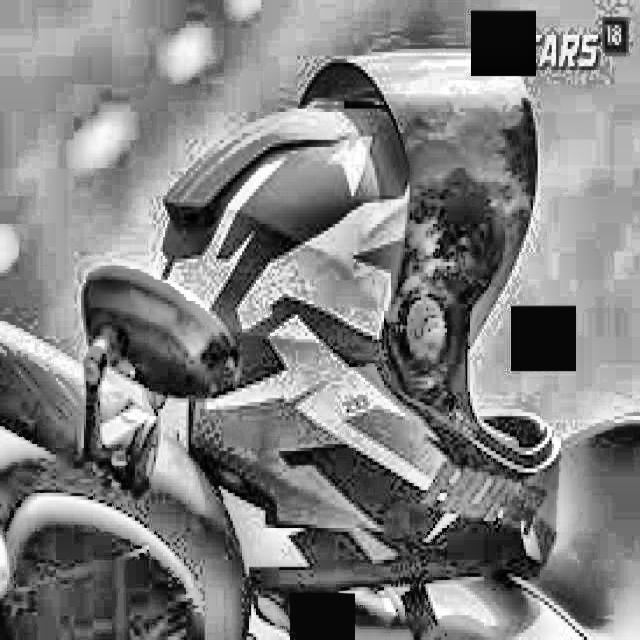Helmet: (153, 46, 570, 584)
